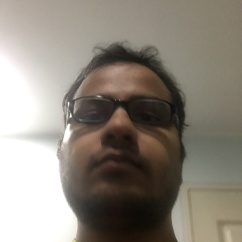glasses: (67, 98, 177, 124)
